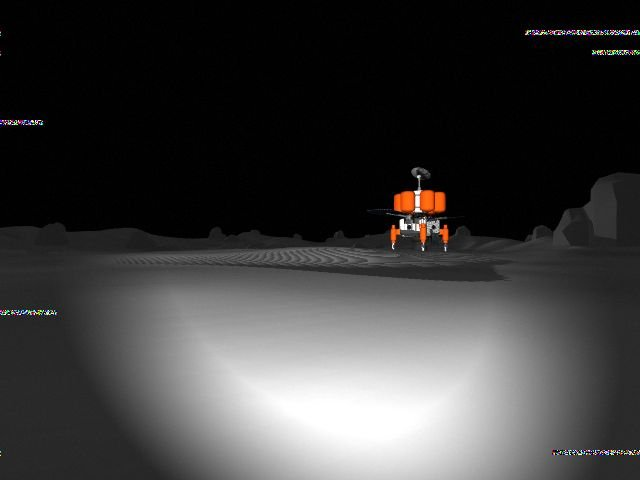homebase: (367, 165, 473, 255)
